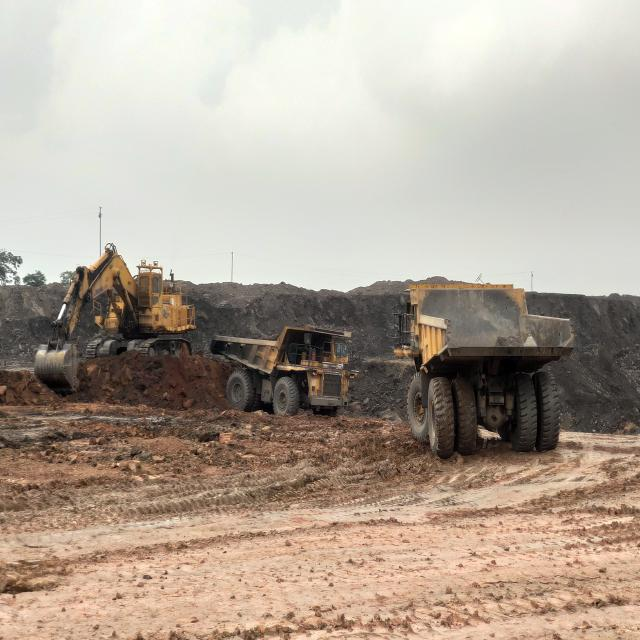dump_truck: (393, 282, 575, 459), (210, 327, 355, 419)
excavator: (34, 243, 197, 391)
